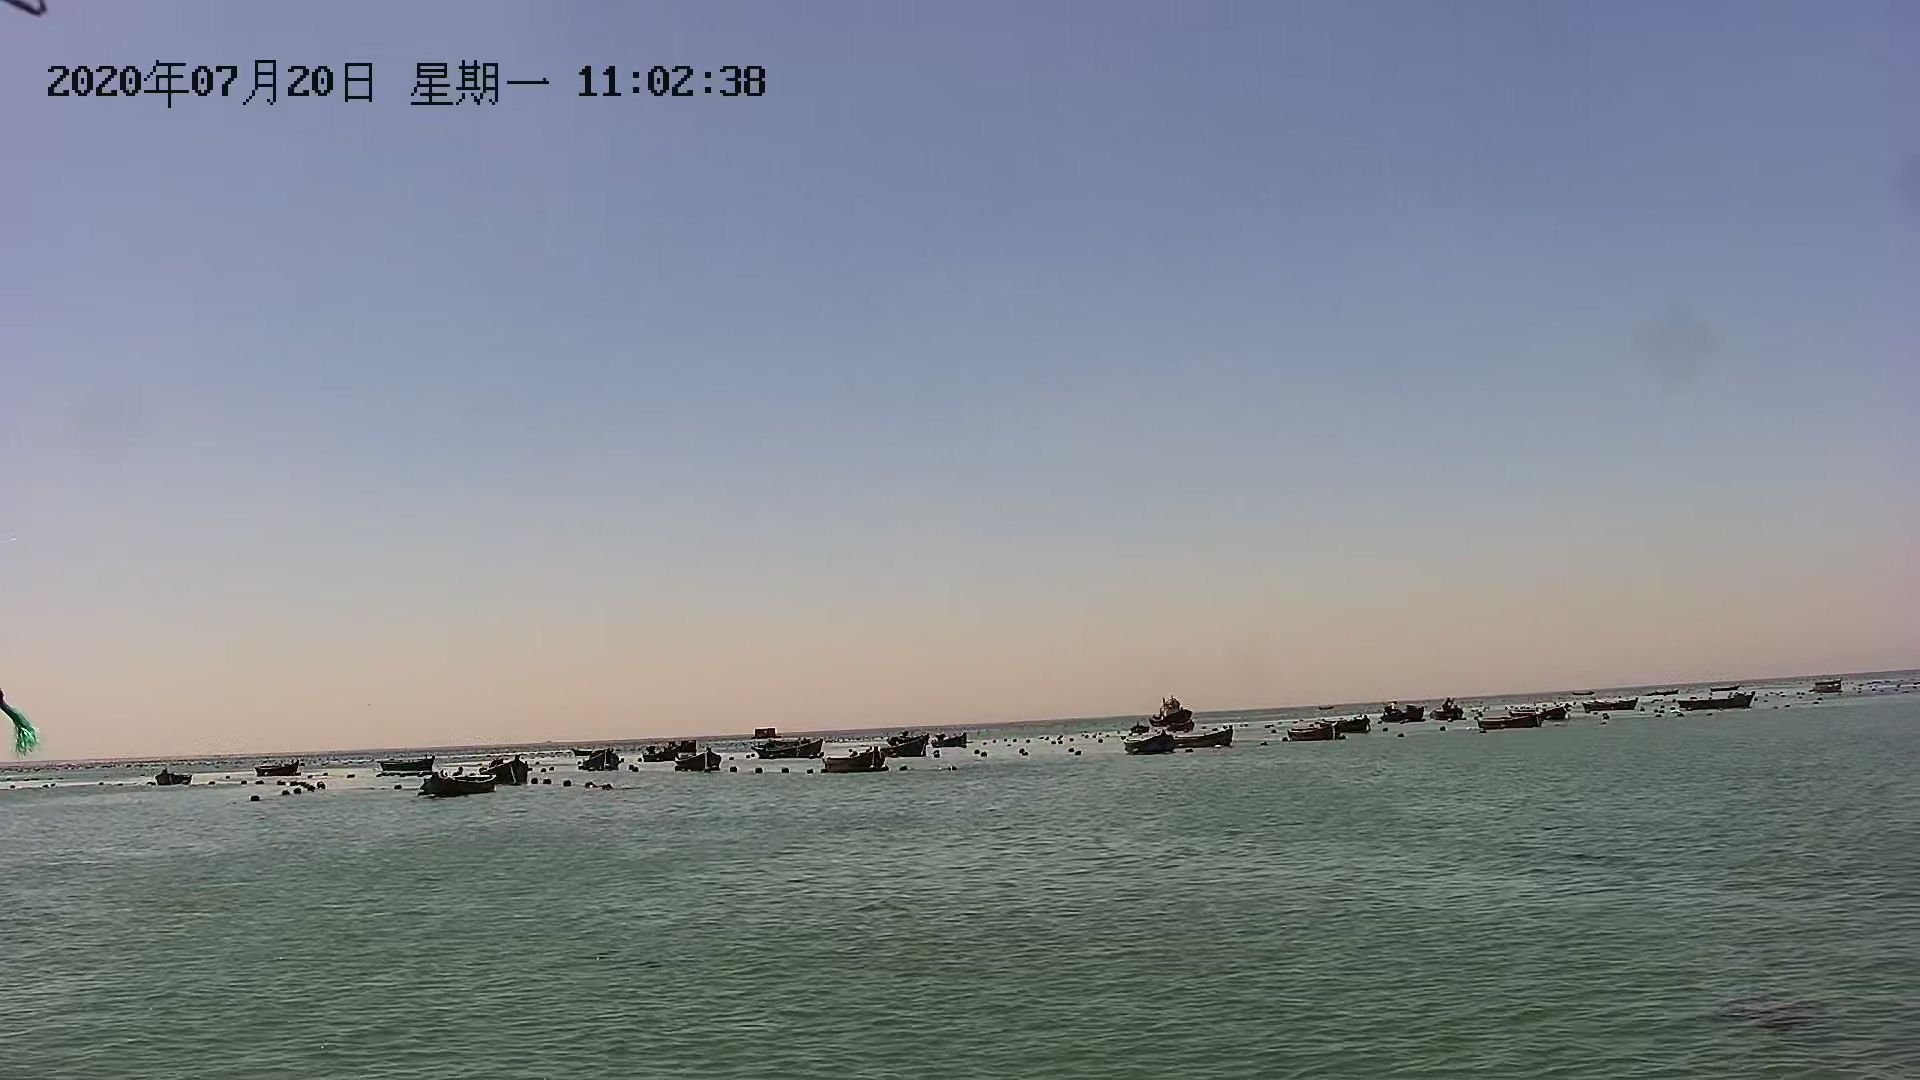boat: (1669, 687, 1759, 717), (419, 767, 497, 800), (818, 745, 890, 777), (1472, 705, 1544, 735), (1374, 696, 1429, 729), (873, 735, 942, 760), (1276, 721, 1345, 746), (644, 736, 705, 764), (757, 736, 825, 760), (1171, 727, 1238, 750), (1578, 694, 1648, 716), (671, 752, 731, 777), (375, 756, 438, 778), (578, 748, 624, 775), (1804, 673, 1850, 699), (153, 764, 196, 791), (931, 731, 977, 754), (1124, 737, 1178, 756), (253, 760, 305, 777)
ship: (1145, 694, 1200, 736)
